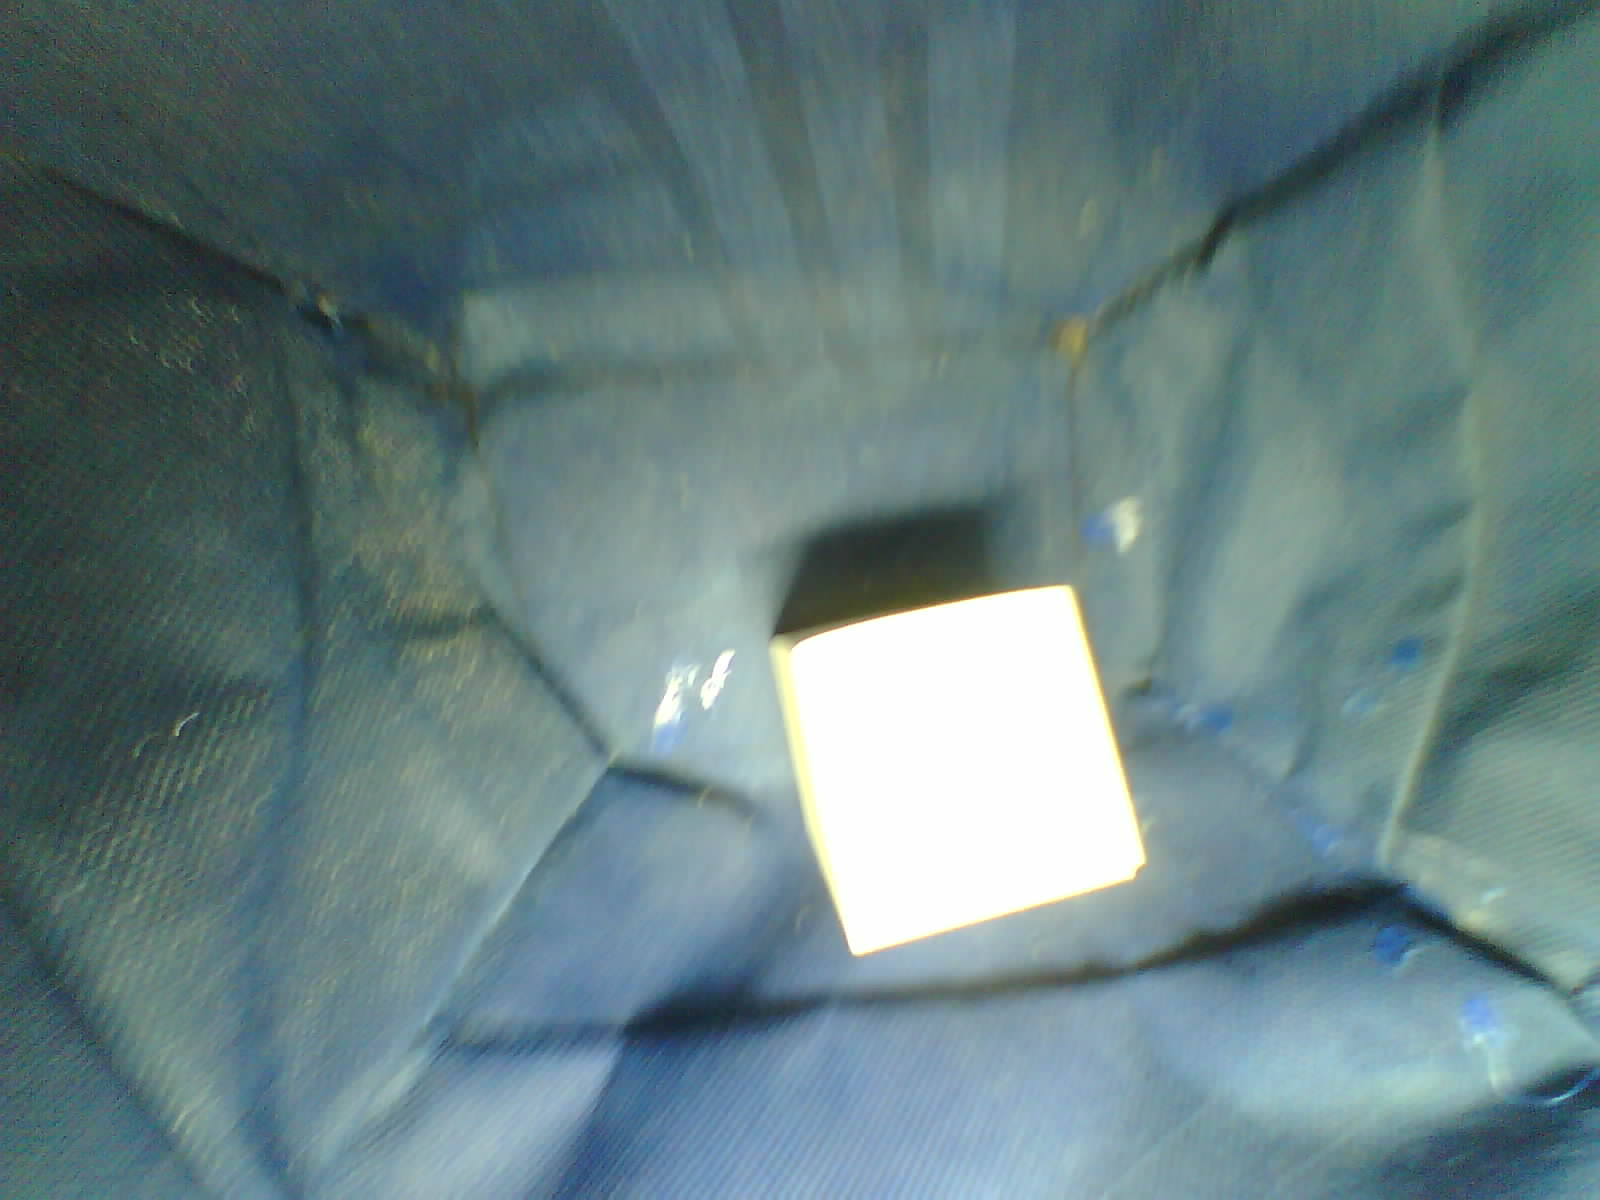cube-hard: (751, 571, 1175, 988)
